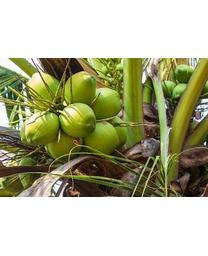coconut: (24, 72, 63, 110), (83, 120, 122, 156), (60, 103, 97, 140), (61, 69, 94, 105), (22, 110, 59, 142), (48, 130, 84, 159)
